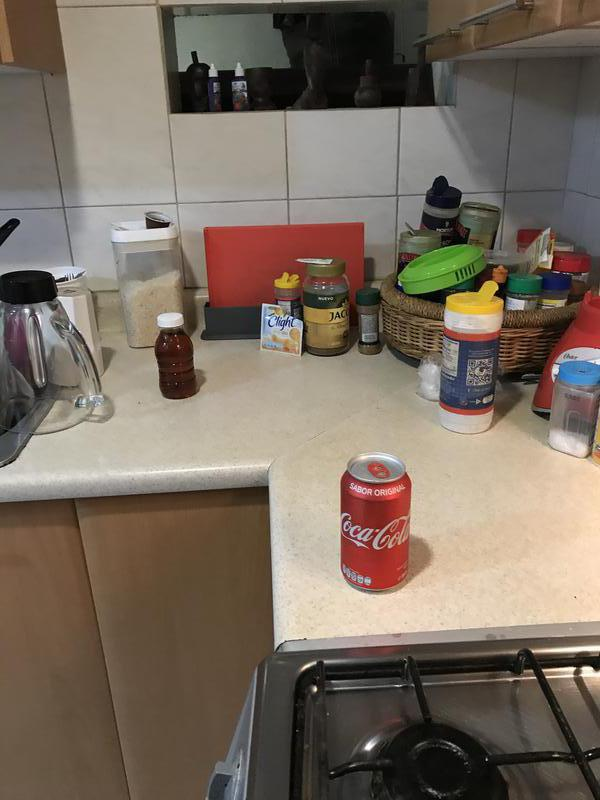coca_cola: (340, 452, 412, 594)
